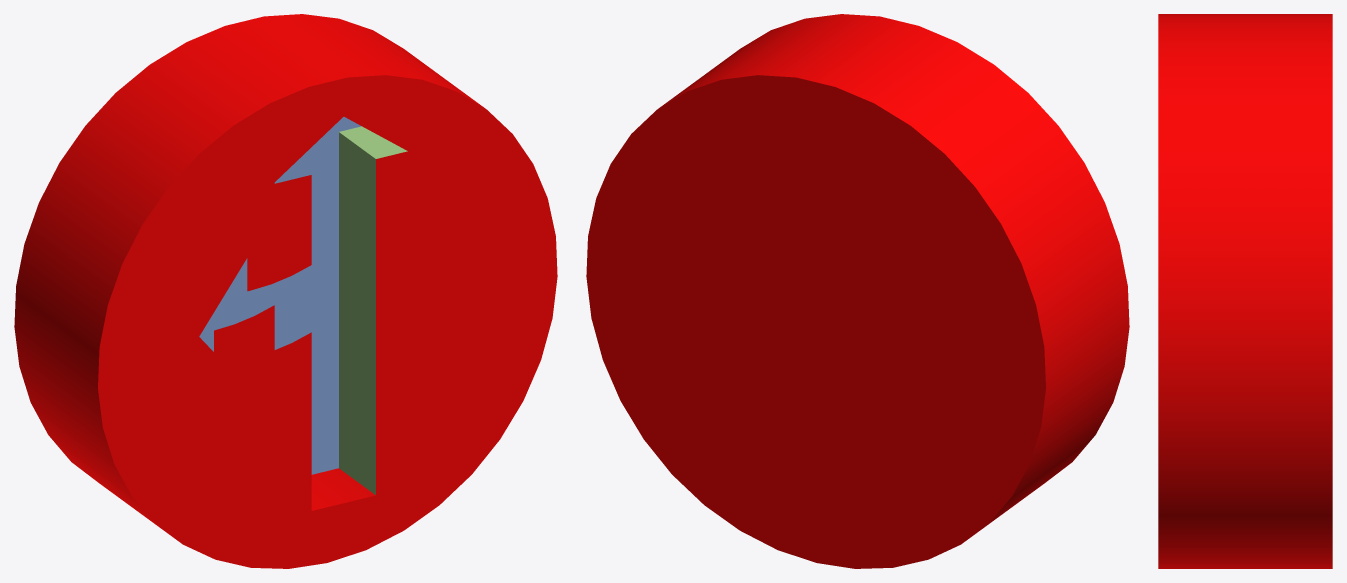
3 views of the same model, side by side, from view 1: azimuth 30°, elevation 25°; view 2: azimuth 150°, elevation 25°; view 3: azimuth 270°, elevation 25° (orthographic). The views are drawn at different scales.
Parts seen in each view (by area): view 1: Surface 66, Surface 61, Surface 3, Surface 4, Surface 2; view 2: Surface 66; view 3: Surface 66.
Boxes of the visible parts, x1=… form: Surface 66: x1=14, y1=14, x2=557, y2=568; Surface 61: x1=199, y1=117, x2=361, y2=474; Surface 3: x1=339, y1=132, x2=375, y2=494; Surface 4: x1=339, y1=133, x2=375, y2=494; Surface 2: x1=339, y1=126, x2=407, y2=158; Surface 66: x1=586, y1=14, x2=1129, y2=568; Surface 66: x1=1158, y1=14, x2=1332, y2=568.
Size of the model in its own units: 0.0107 by 0.0107 by 0.00337.
